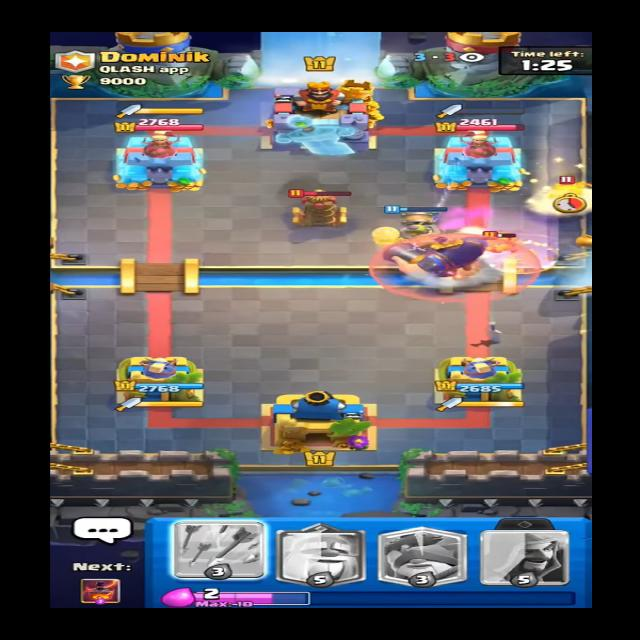goblin: (477, 231, 523, 253)
little-prince: (550, 174, 589, 209)
tesla: (278, 182, 362, 230)
